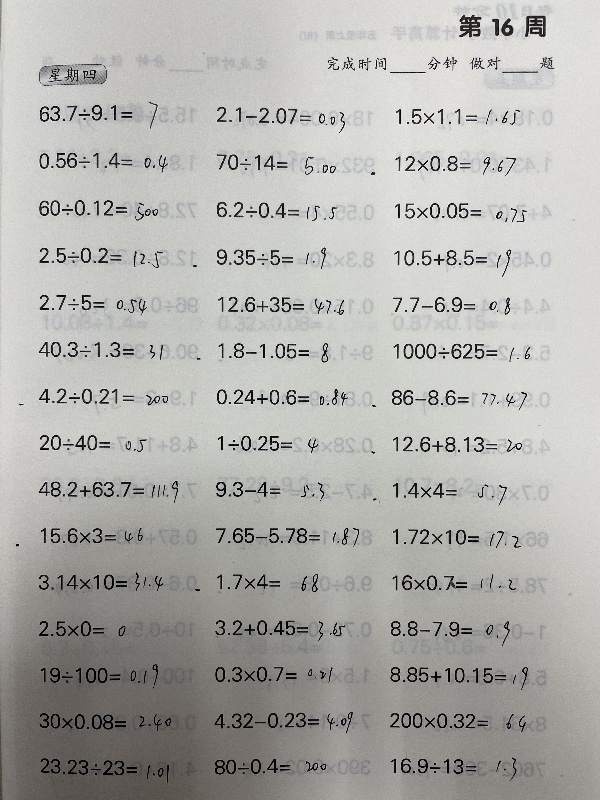equation: (216, 514, 362, 557), (33, 698, 174, 740), (34, 748, 175, 790), (385, 659, 530, 697), (212, 702, 355, 739), (36, 563, 165, 602), (34, 474, 200, 504), (211, 610, 349, 646), (208, 656, 346, 692), (38, 657, 161, 697), (386, 704, 530, 737), (33, 148, 170, 181), (389, 245, 515, 280), (211, 148, 344, 181), (387, 569, 543, 597), (387, 750, 525, 781), (386, 618, 519, 650), (208, 749, 336, 782), (212, 429, 340, 462), (388, 524, 532, 553), (212, 565, 330, 598), (212, 102, 349, 130), (36, 519, 154, 551), (386, 385, 530, 411), (34, 100, 158, 130), (389, 197, 529, 223), (388, 338, 533, 363), (35, 337, 167, 364), (33, 194, 161, 221), (211, 477, 334, 505), (34, 242, 165, 268), (212, 243, 329, 272), (211, 197, 340, 223), (213, 291, 347, 316), (212, 385, 351, 409), (390, 150, 518, 176), (386, 477, 509, 504), (214, 338, 332, 366), (34, 383, 171, 407), (34, 610, 135, 642), (388, 432, 526, 455), (387, 291, 513, 316), (392, 104, 523, 128), (34, 289, 149, 315), (34, 429, 149, 454)
